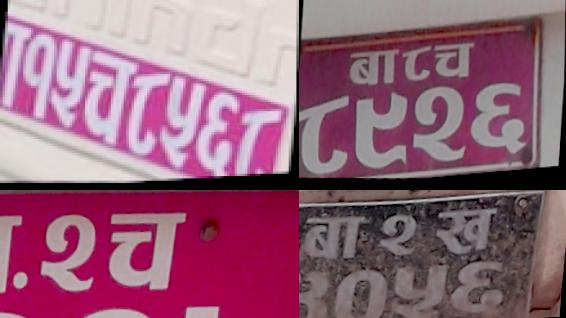0: (301, 211, 362, 262)
1: (16, 29, 59, 123), (378, 213, 417, 258)
2: (31, 207, 106, 306), (407, 80, 474, 174)
4: (449, 259, 507, 318)
5: (155, 75, 203, 170), (45, 38, 88, 128), (299, 267, 327, 318)
6: (467, 78, 534, 168), (192, 88, 240, 181), (391, 263, 447, 318)
8: (299, 86, 356, 182), (122, 70, 165, 160), (234, 107, 286, 179), (400, 43, 434, 87)
9: (348, 85, 415, 177)
ba: (0, 203, 35, 310), (343, 43, 401, 94), (0, 8, 28, 111)
cha: (100, 207, 189, 306), (77, 48, 133, 150), (332, 266, 389, 318), (431, 39, 478, 87)
ja: (435, 207, 491, 259)
